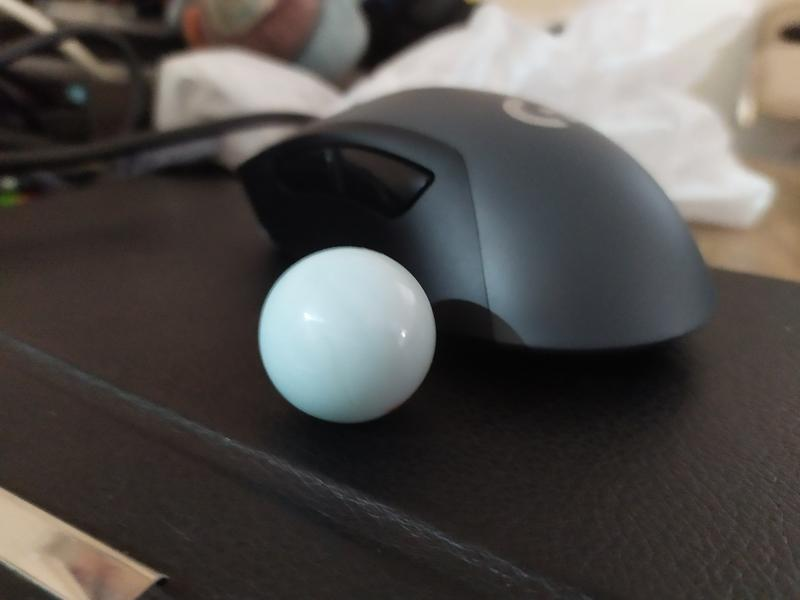Warning: (252, 244, 441, 427)
